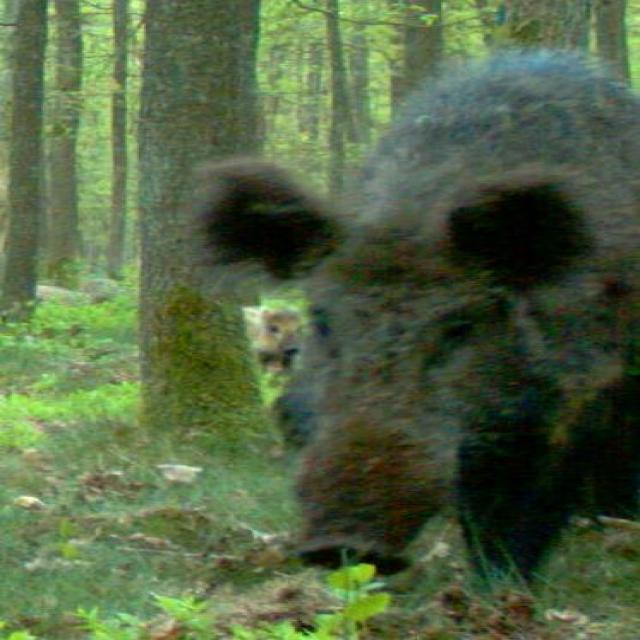pig: (167, 16, 640, 598)
